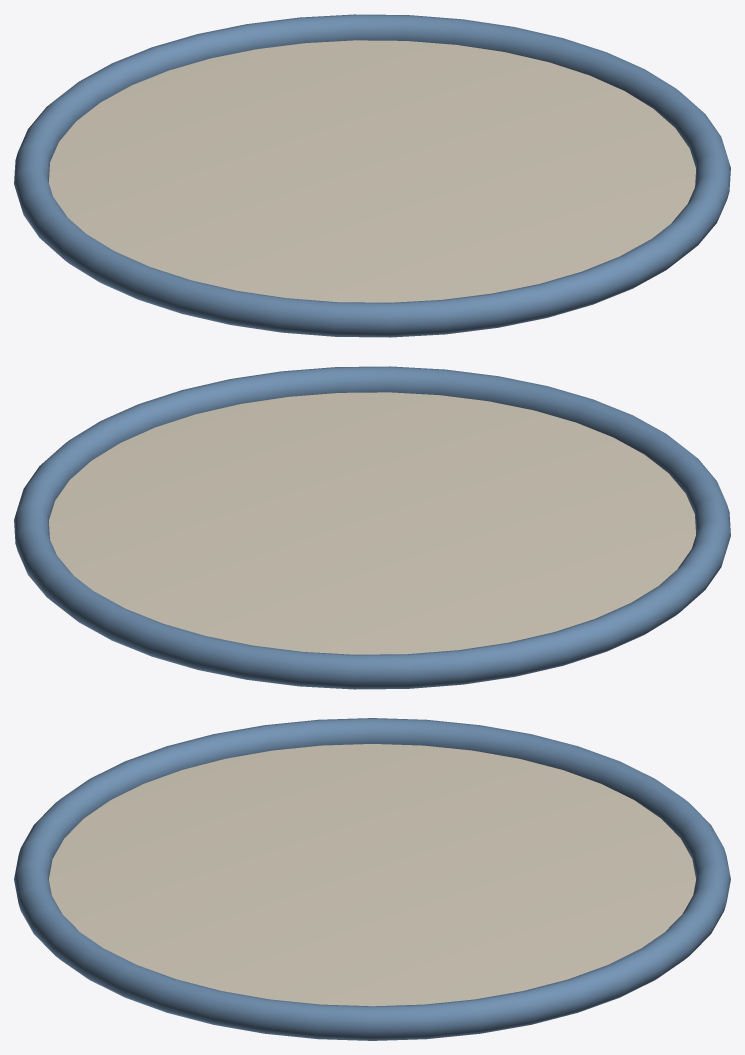
Rendered from plate.glb.
3 views of the same model, one above another, from view 1: azimuth 30°, elevation 25°; view 2: azimuth 150°, elevation 25°; view 3: azimuth 270°, elevation 25° (orthographic).
Parts seen in each view (by area): view 1: plate_body, plate_rim; view 2: plate_body, plate_rim; view 3: plate_body, plate_rim.
Boxes of the visible parts, x1=… form: plate_body: x1=49, y1=40, x2=695, y2=302; plate_rim: x1=14, y1=14, x2=730, y2=337; plate_body: x1=49, y1=392, x2=695, y2=654; plate_rim: x1=14, y1=366, x2=730, y2=689; plate_body: x1=49, y1=744, x2=695, y2=1006; plate_rim: x1=14, y1=718, x2=730, y2=1040.
Size of the model in its own units: 0.494 by 0.044 by 0.494.
